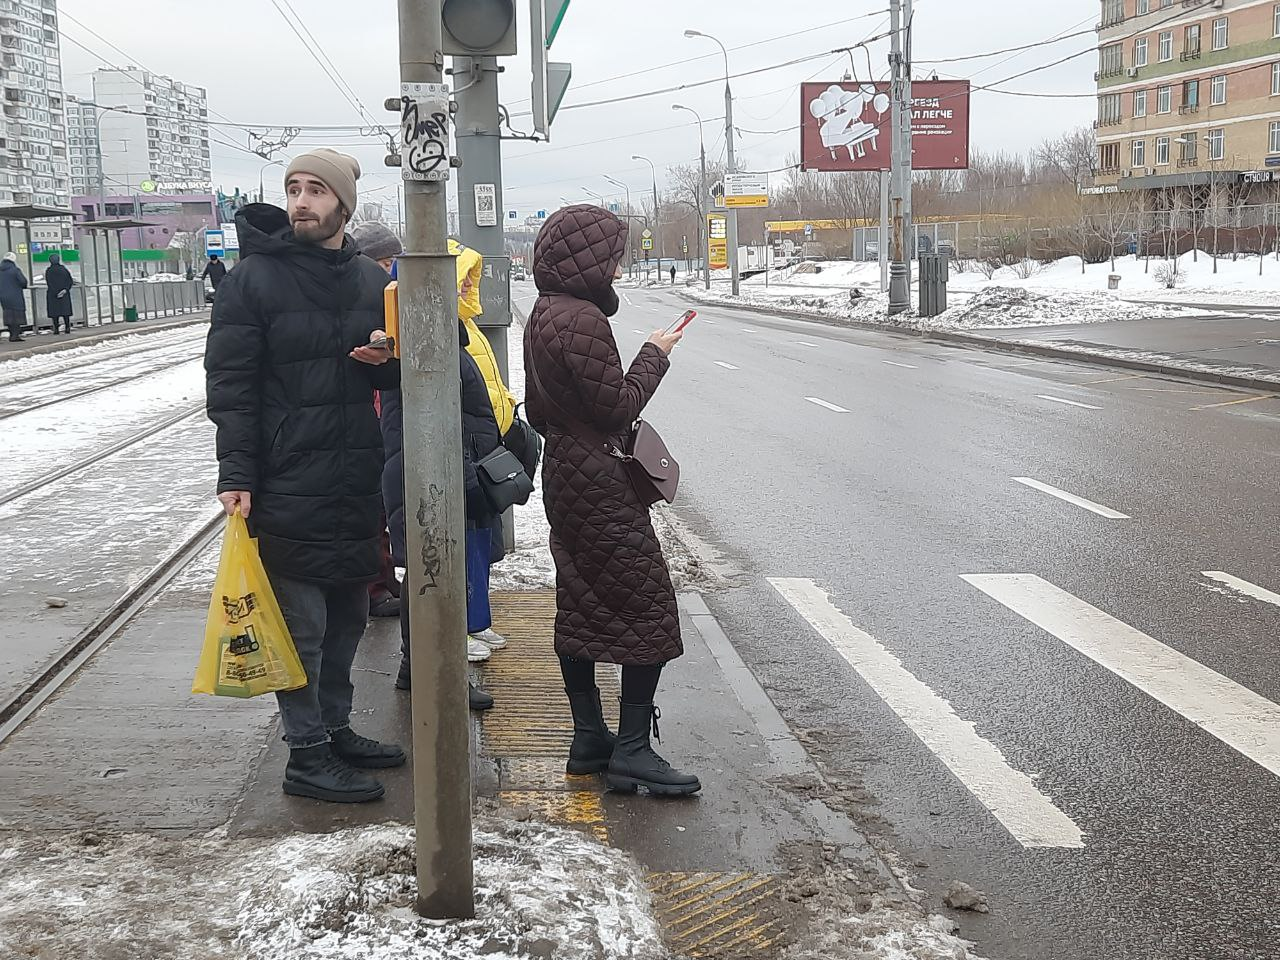sombie: (201, 142, 428, 832), (508, 190, 754, 812)
